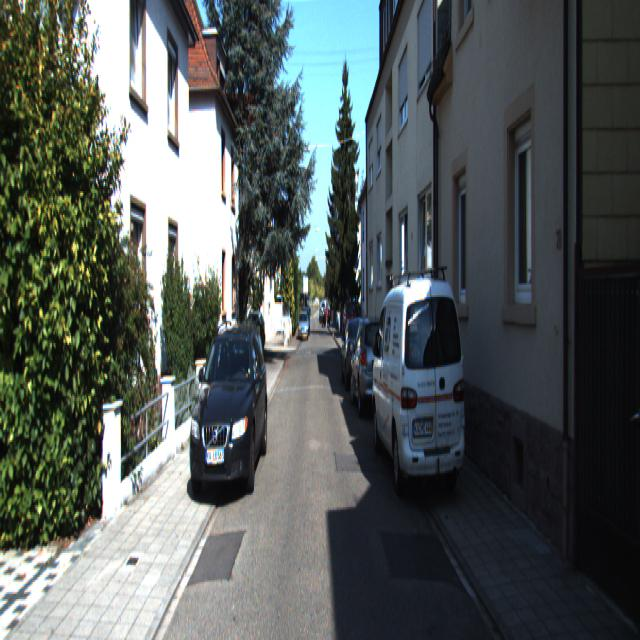Car: (371, 255, 468, 503), (188, 321, 268, 514), (348, 310, 392, 422), (340, 312, 373, 394), (343, 298, 358, 335)
